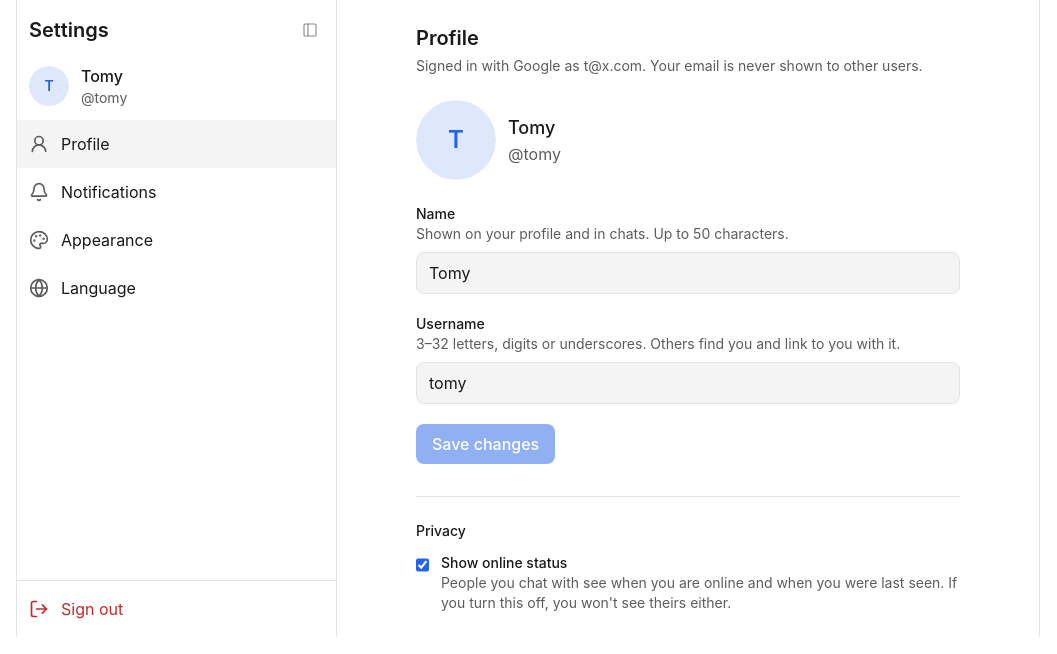
Test: SettingsLayout › navigates between sections from the menu
What coordinates should you click on to do the following:
click the link "Appearance"
I would click on:
 (91, 240)
Its box is [29,230,153,250].
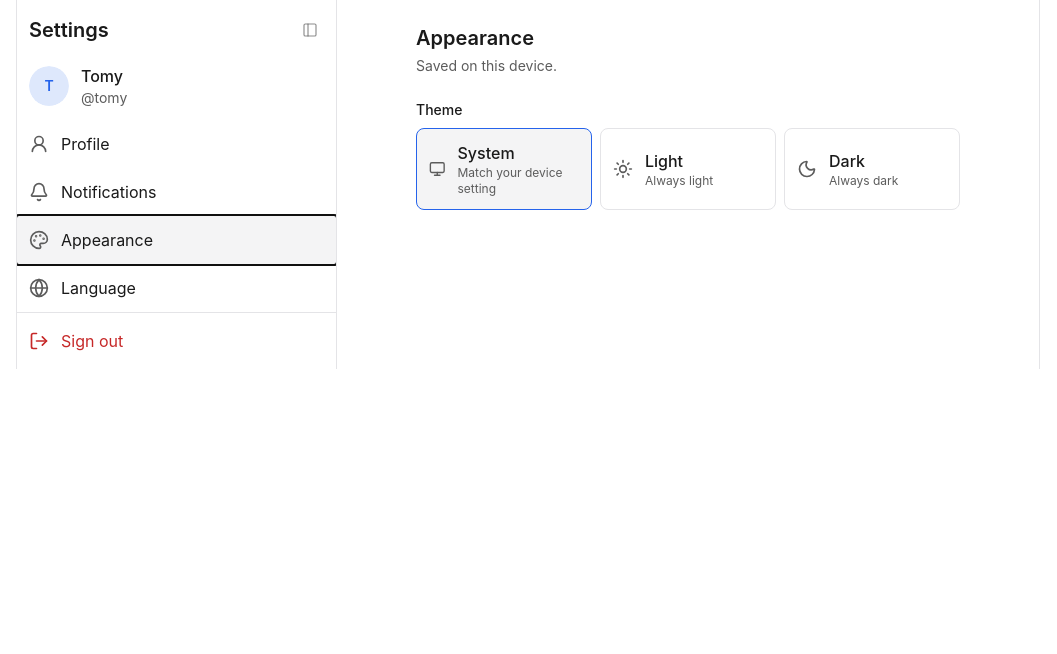
Result: the heading "Appearance" is shown at [416,24,534,52]
What coordinates should you click on to do the following:
click the link "Language"
I would click on:
 (82, 288)
Its box is [29,278,136,298].
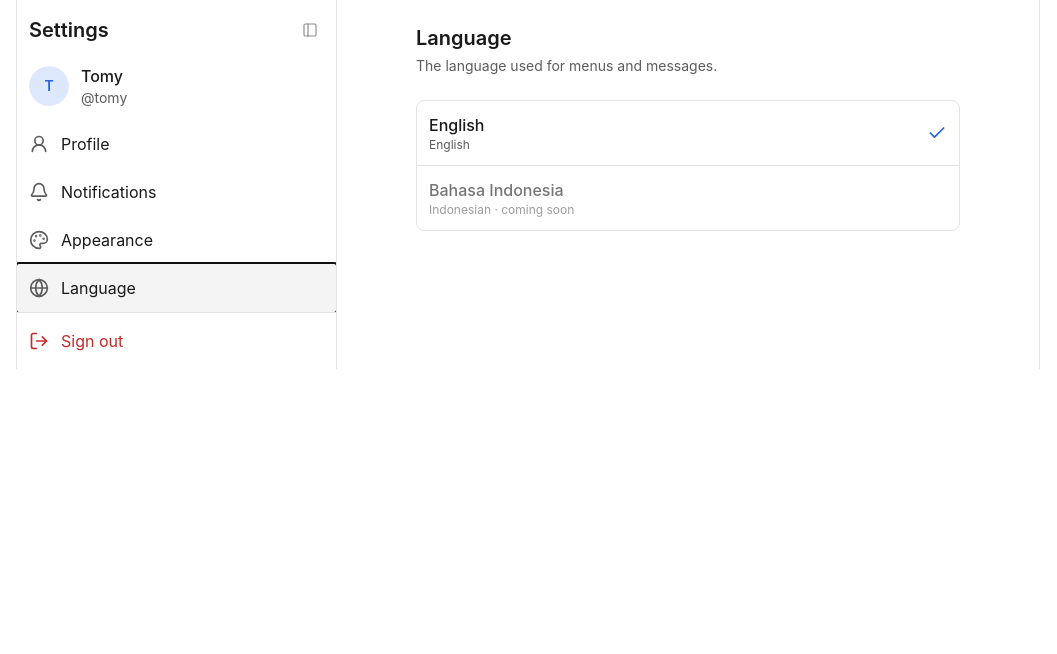
Result: the heading "Language" is shown at [416,24,512,52]
